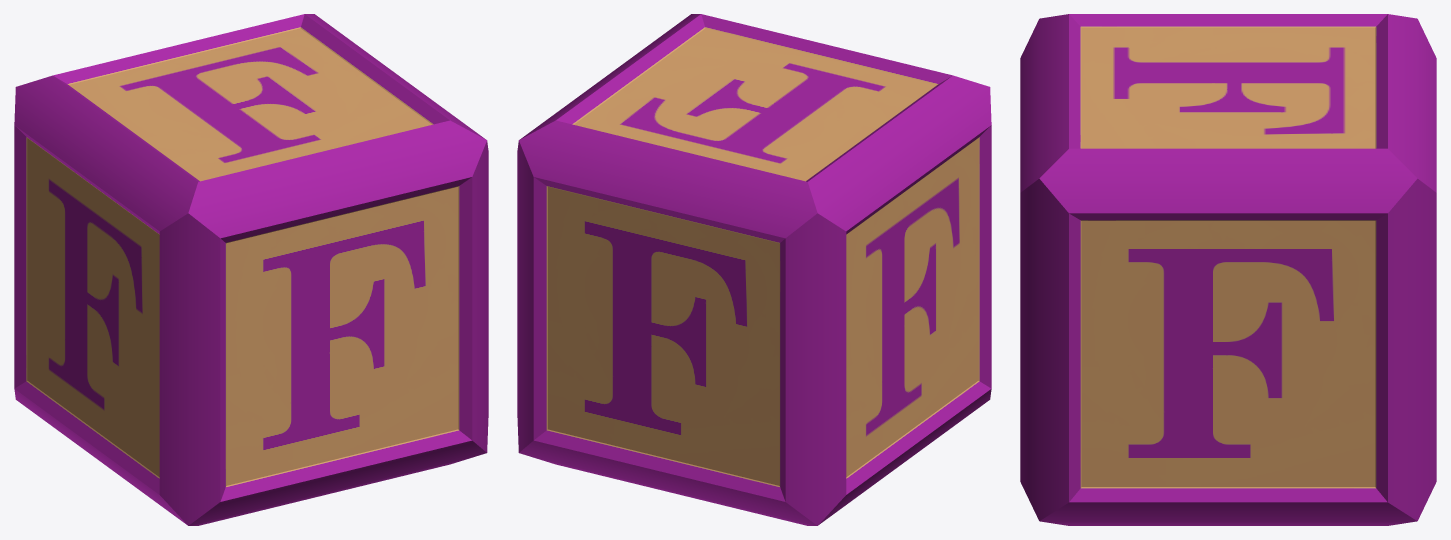
3 views of the same model, side by side, from view 1: azimuth 30°, elevation 25°; view 2: azimuth 150°, elevation 25°; view 3: azimuth 270°, elevation 25° (orthographic). The views are drawn at different scales.
Visible parts, largest first — view 1: pCube1; view 2: pCube1; view 3: pCube1.
Boxes of the visible parts, x1,y1,x2,y2 form: pCube1: (14,14,488,525); pCube1: (517,14,991,525); pCube1: (1020,14,1436,525).
Size of the model in its own units: 0.4114 by 0.4114 by 0.4114.
Materials: 1 (1 with a texture image).
